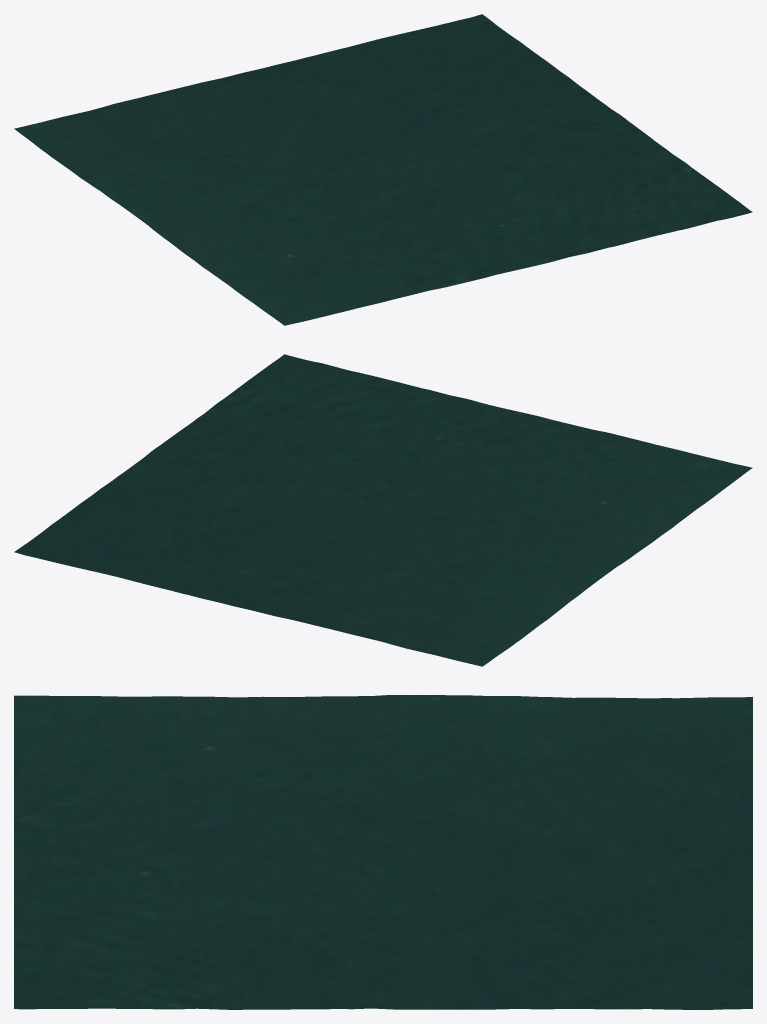
3 renders of one model, top to bottom at view 1: azimuth 30°, elevation 25°; view 2: azimuth 150°, elevation 25°; view 3: azimuth 270°, elevation 25°, orthographic. The views are drawn at different scales.
Bounding box in the file's own units: 104 × 0.5597 × 104.
Materials: 3 (3 with a texture image).
